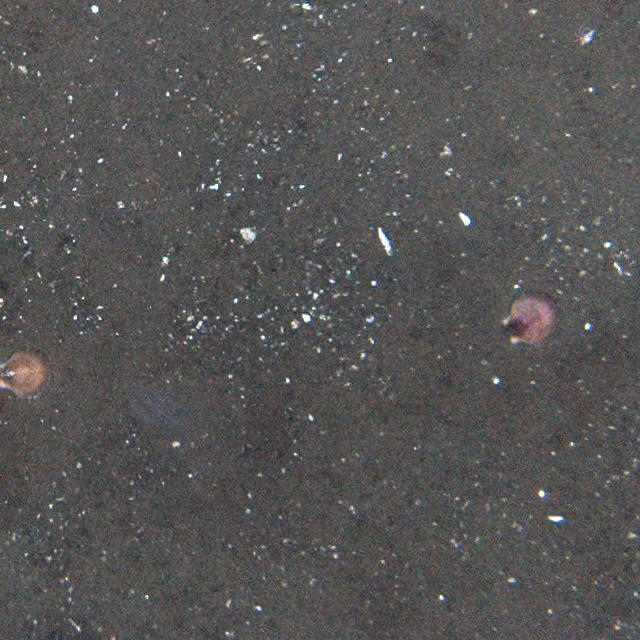scallop: (494, 288, 560, 348), (0, 346, 54, 402)
